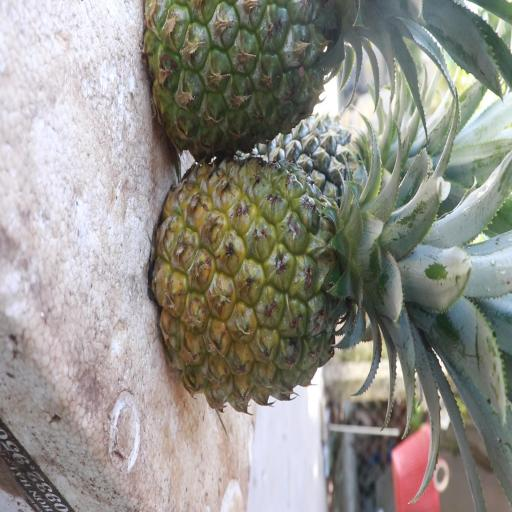------------------------------: (144, 0, 385, 155)
Pineapple - v8 v1: (156, 169, 406, 405)
